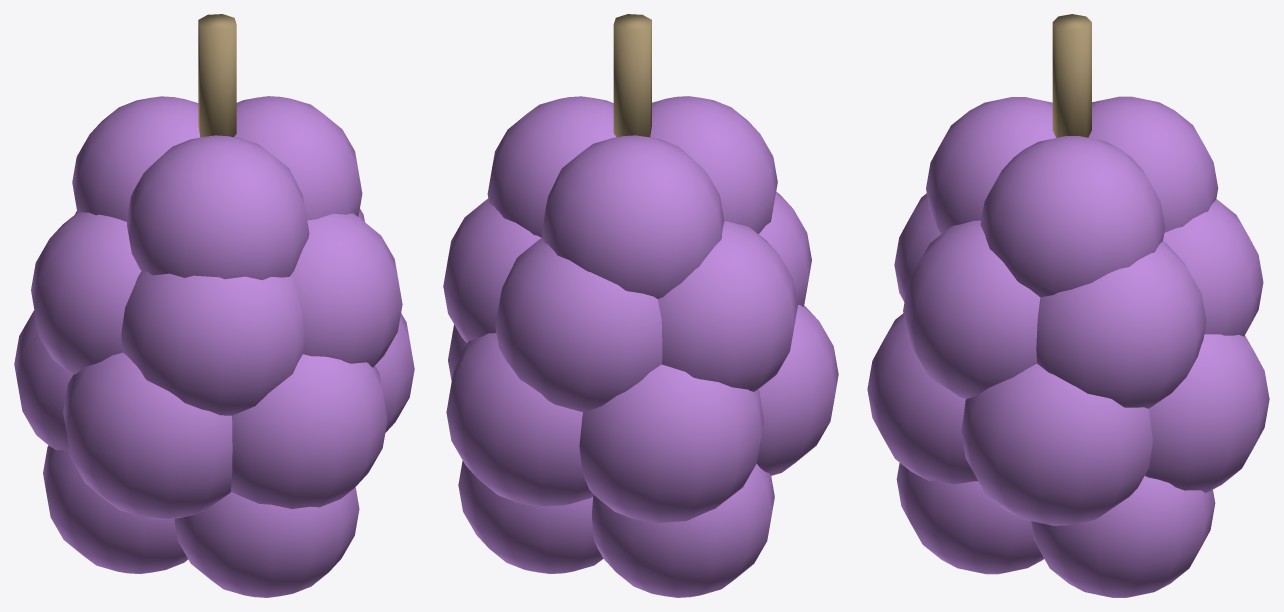
Rendered from Grapes.glb.
3 views of the same model, side by side, from view 1: azimuth 30°, elevation 25°; view 2: azimuth 150°, elevation 25°; view 3: azimuth 270°, elevation 25° (orthographic).
Visible parts, largest first — view 1: Grapes; view 2: Grapes; view 3: Grapes.
Part boxes in pixels (x1,y1,x2,y2): Grapes: (14, 14, 414, 597); Grapes: (443, 14, 838, 597); Grapes: (867, 14, 1269, 597).
Bounding box in the file's own units: 0.6388 × 0.965 × 0.6512.
